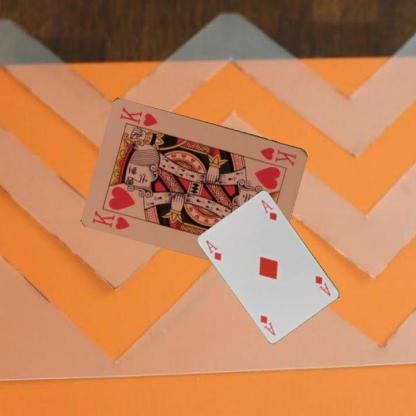Ad: (203, 237, 223, 262), (312, 273, 332, 297)
Kh: (90, 208, 134, 231), (258, 144, 298, 168)
